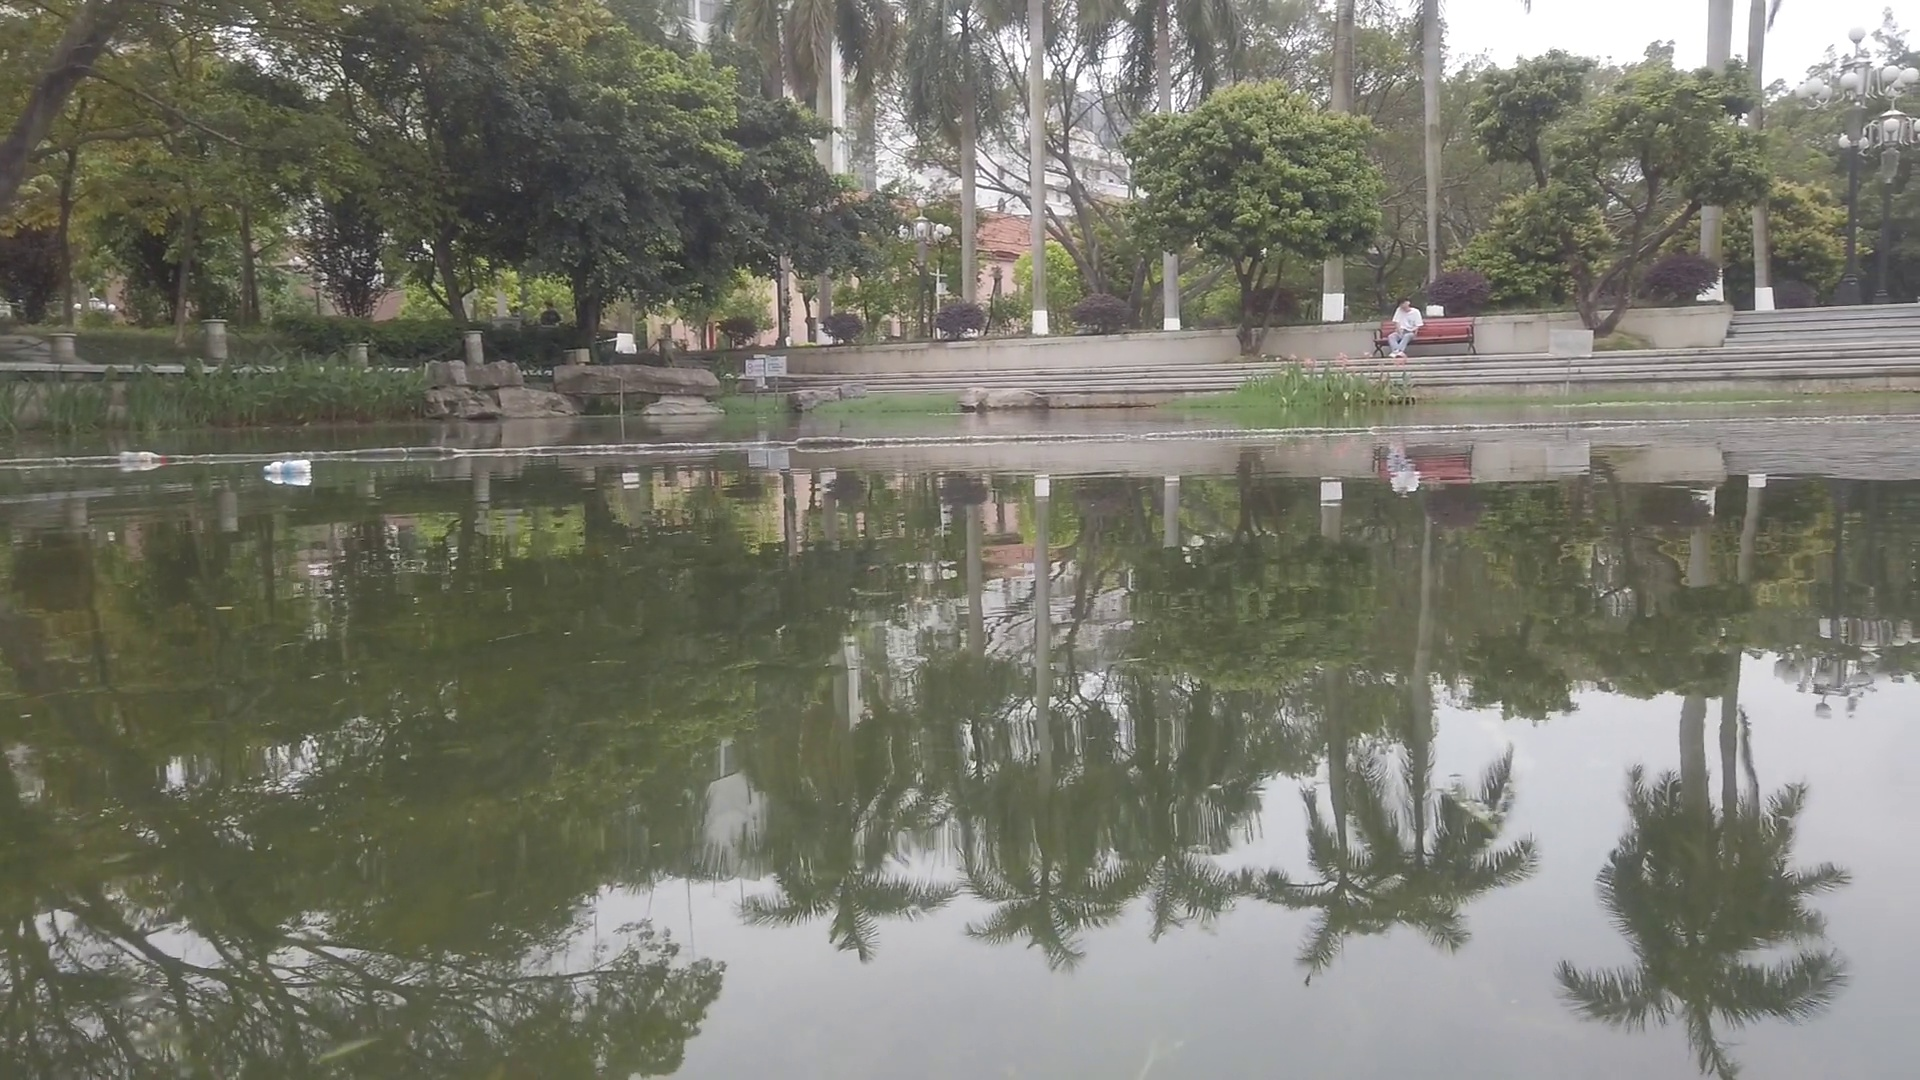bottle: (119, 448, 169, 467), (261, 459, 313, 475)
